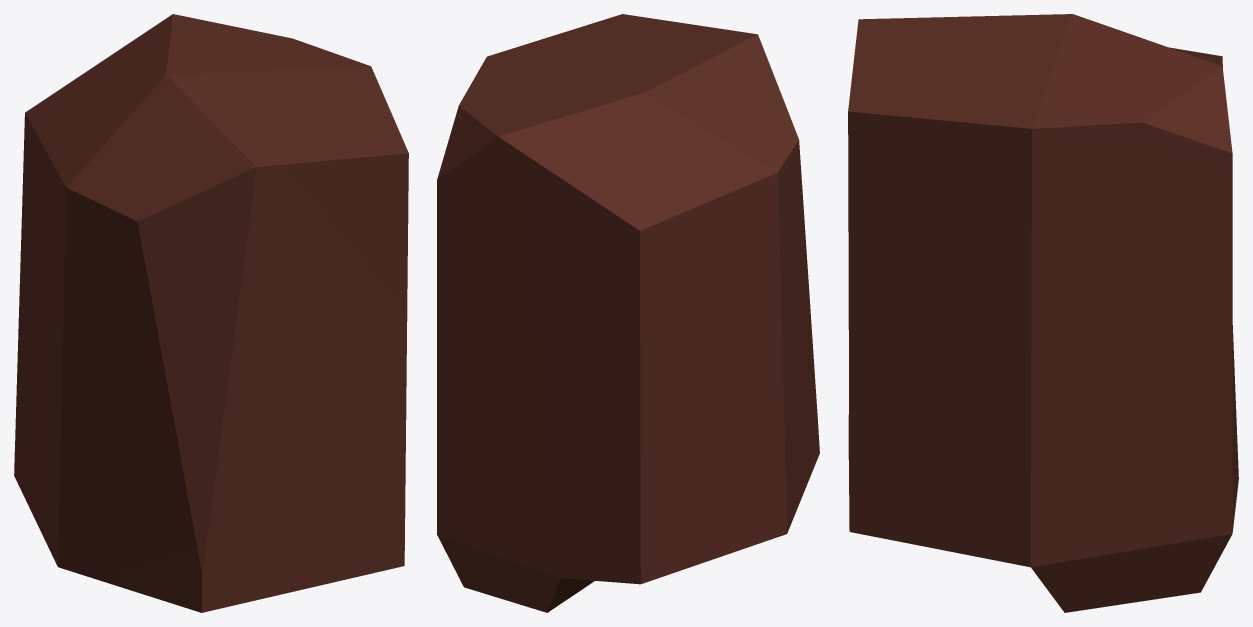
The model's file is entity104076.glb.
3 renders of one model, left to right at view 1: azimuth 30°, elevation 25°; view 2: azimuth 150°, elevation 25°; view 3: azimuth 270°, elevation 25°, orthographic. The views are drawn at different scales.
Visible parts, largest first — view 1: node_SM_Env_Rock_07 (34); view 2: node_SM_Env_Rock_07 (34); view 3: node_SM_Env_Rock_07 (34).
Boxes of the visible parts, x1,y1,x2,y2 form: node_SM_Env_Rock_07 (34): (14,14,408,612); node_SM_Env_Rock_07 (34): (437,14,819,612); node_SM_Env_Rock_07 (34): (848,14,1238,612).
Size of the model in its own units: 4.41 by 6.82 by 4.52.
1 material, 1 textured.
